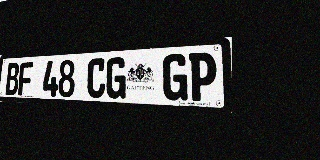4: (42, 60, 59, 97)
8: (58, 59, 76, 97)
B: (5, 63, 20, 95)
C: (86, 58, 106, 98)
F: (18, 62, 33, 96)
G: (162, 53, 188, 101), (105, 57, 127, 99)
P: (188, 52, 216, 102)
